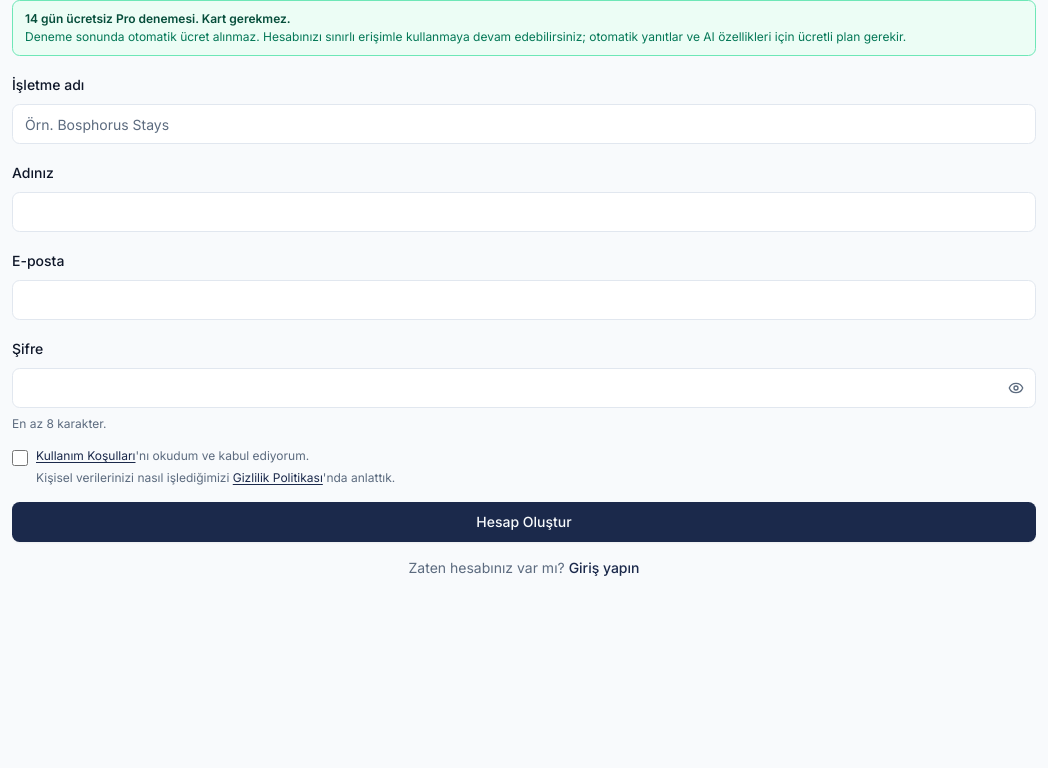
Test case: Kayıt formu — alan hataları kontrole PROGRAMATİK olarak bağlı › şifre kuralı ipucu hata belirince KAYBOLMAZ
expect the text "En az 8 karakter." is shown: met, box [12,416,106,431]
Type "Lale" into the field labelled "İşletme adı" at {"x": 524, "y": 124}, box [12,104,1036,144]
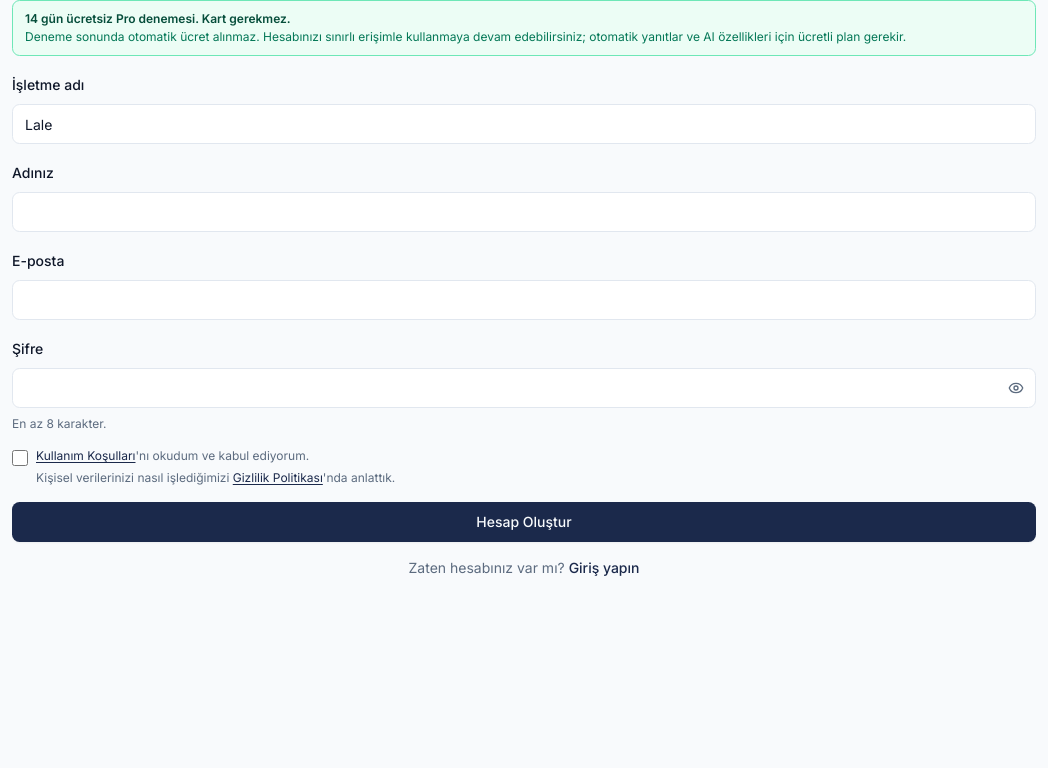
Type "Musa" into the field labelled "Adınız" at {"x": 524, "y": 212}, box [12,192,1036,232]
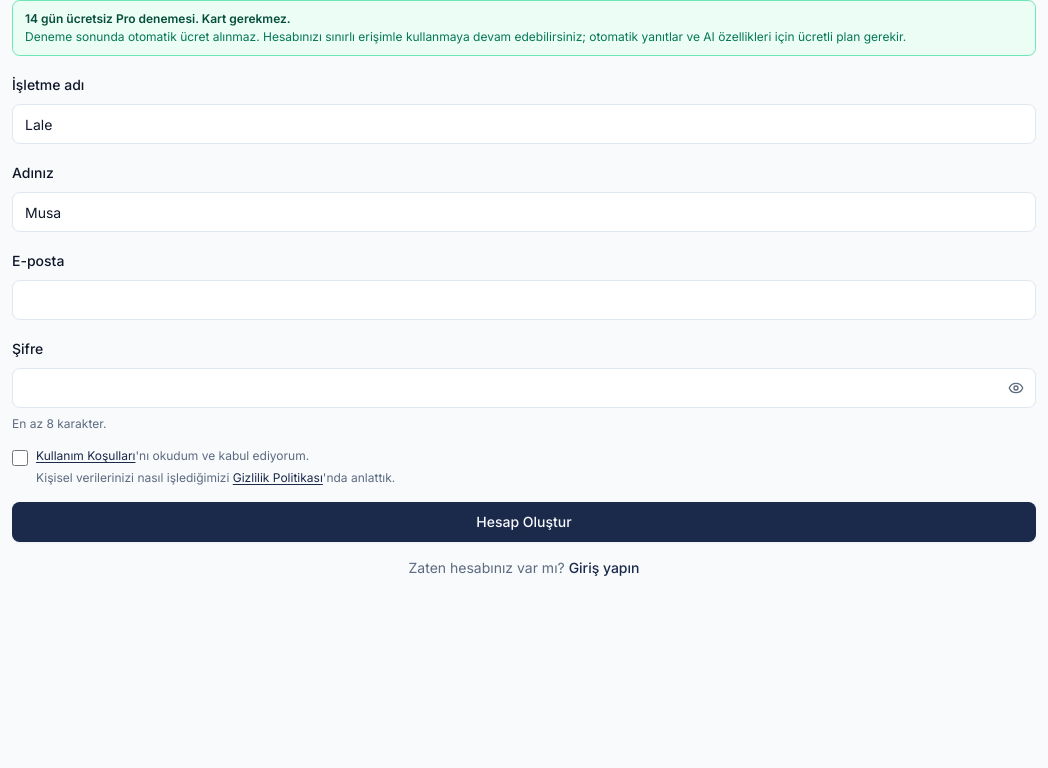
Type "a@b.com" into the field labelled "E-posta" at {"x": 524, "y": 300}, box [12,280,1036,320]
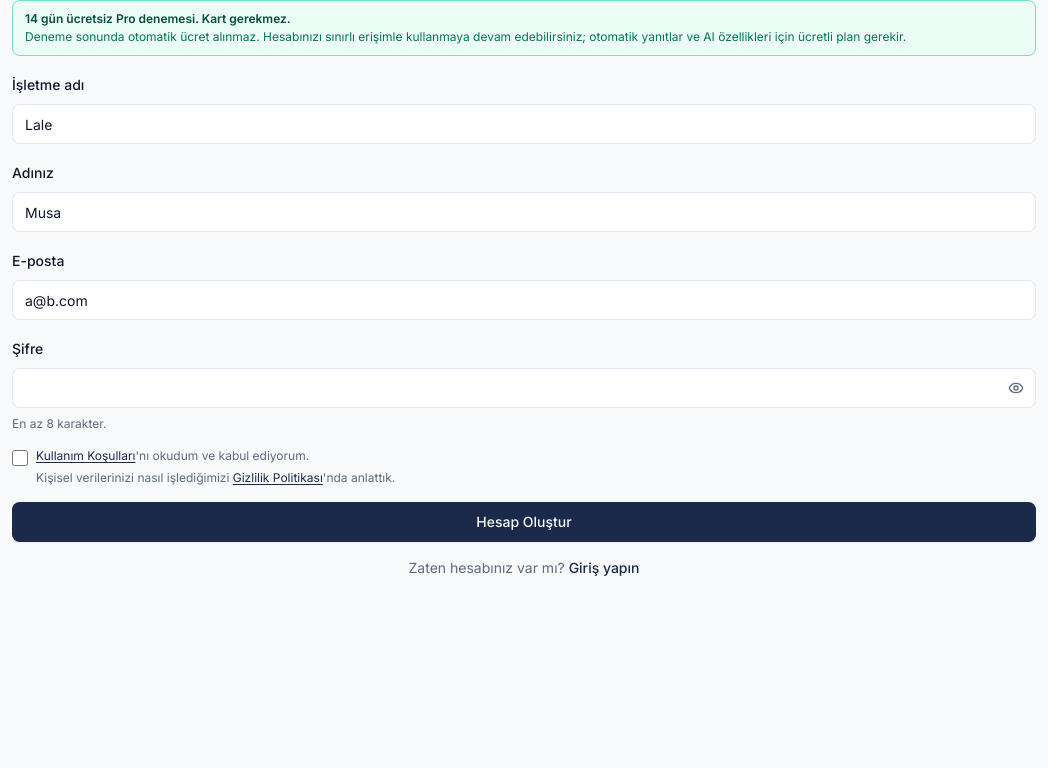
Type "123" into the password field labelled "Şifre" at {"x": 524, "y": 388}, box [12,368,1036,408]
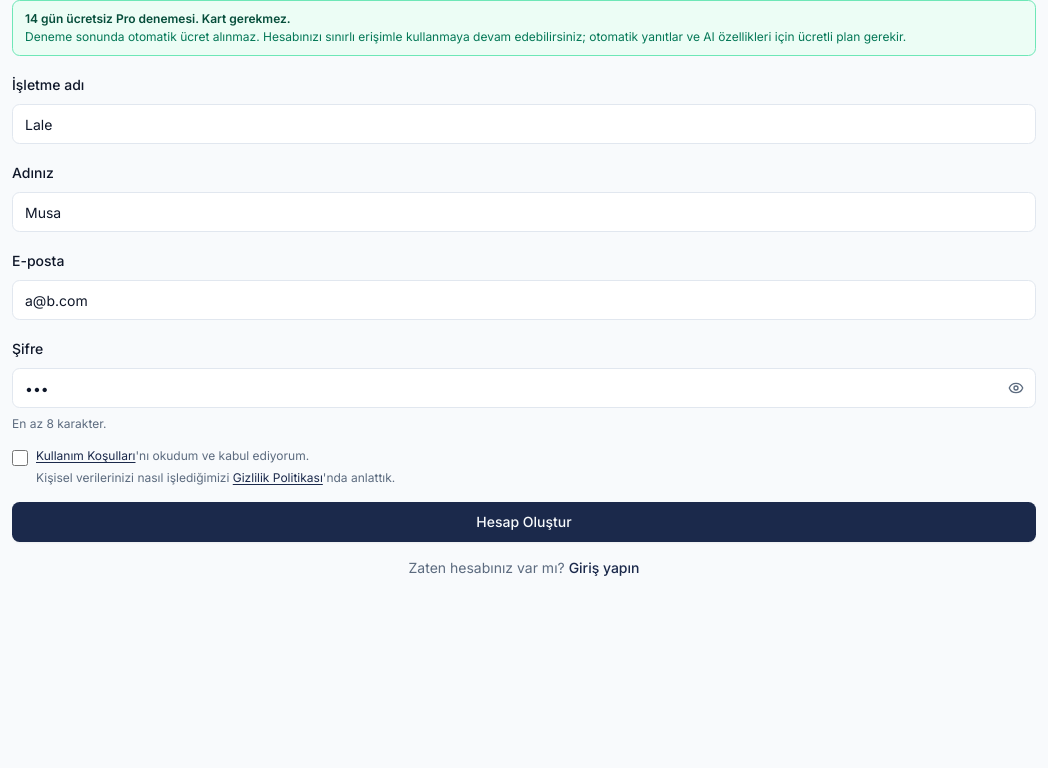
Click the checkbox at {"x": 20, "y": 458}, box [12,450,28,466]
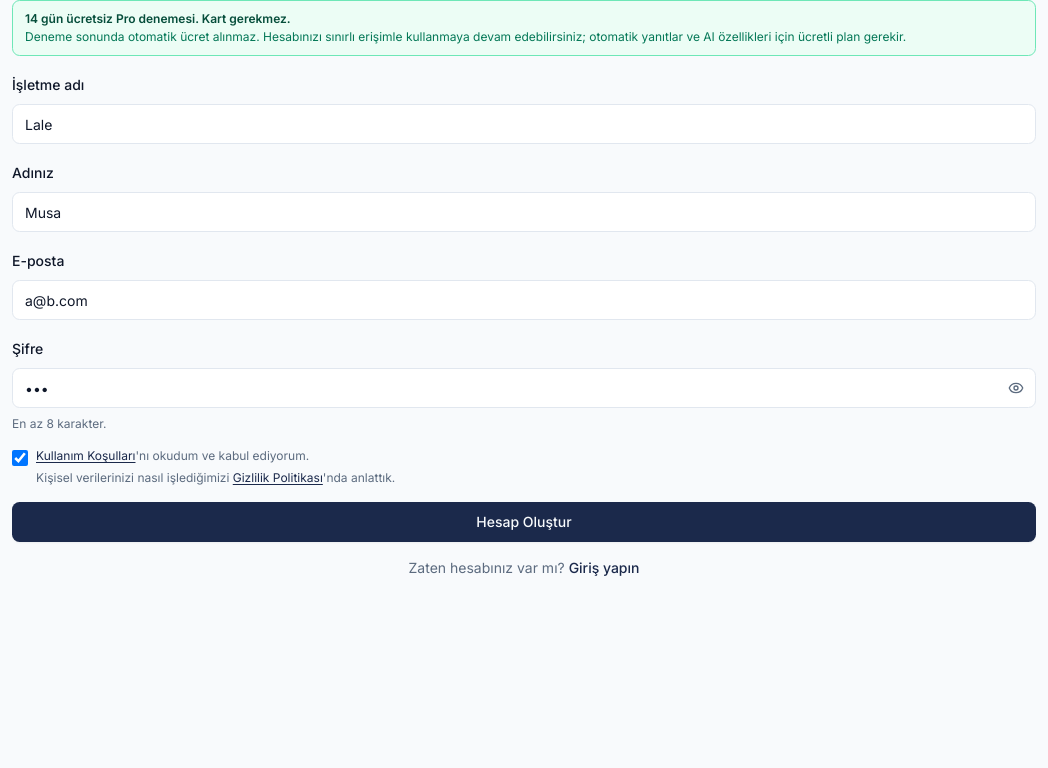
Submit the form named "Hesap Oluştur"
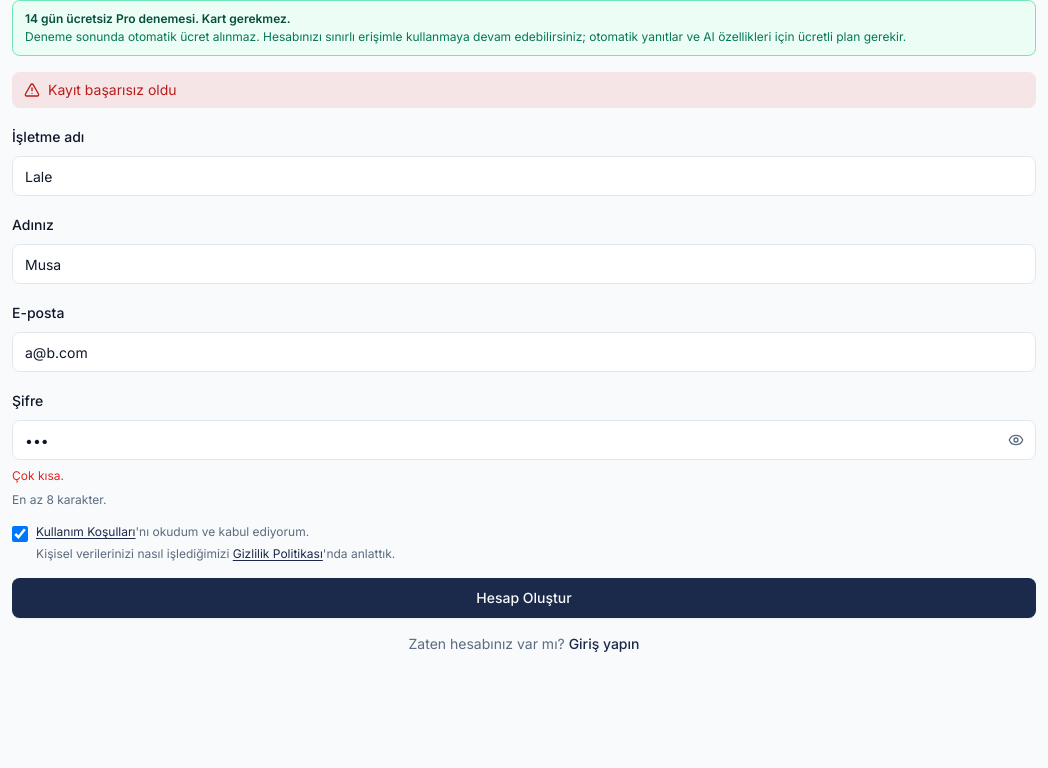
expect the text "En az 8 karakter." is shown: met, box [12,492,106,507]
expect the text "Çok kısa." is shown: met, box [12,468,64,483]
